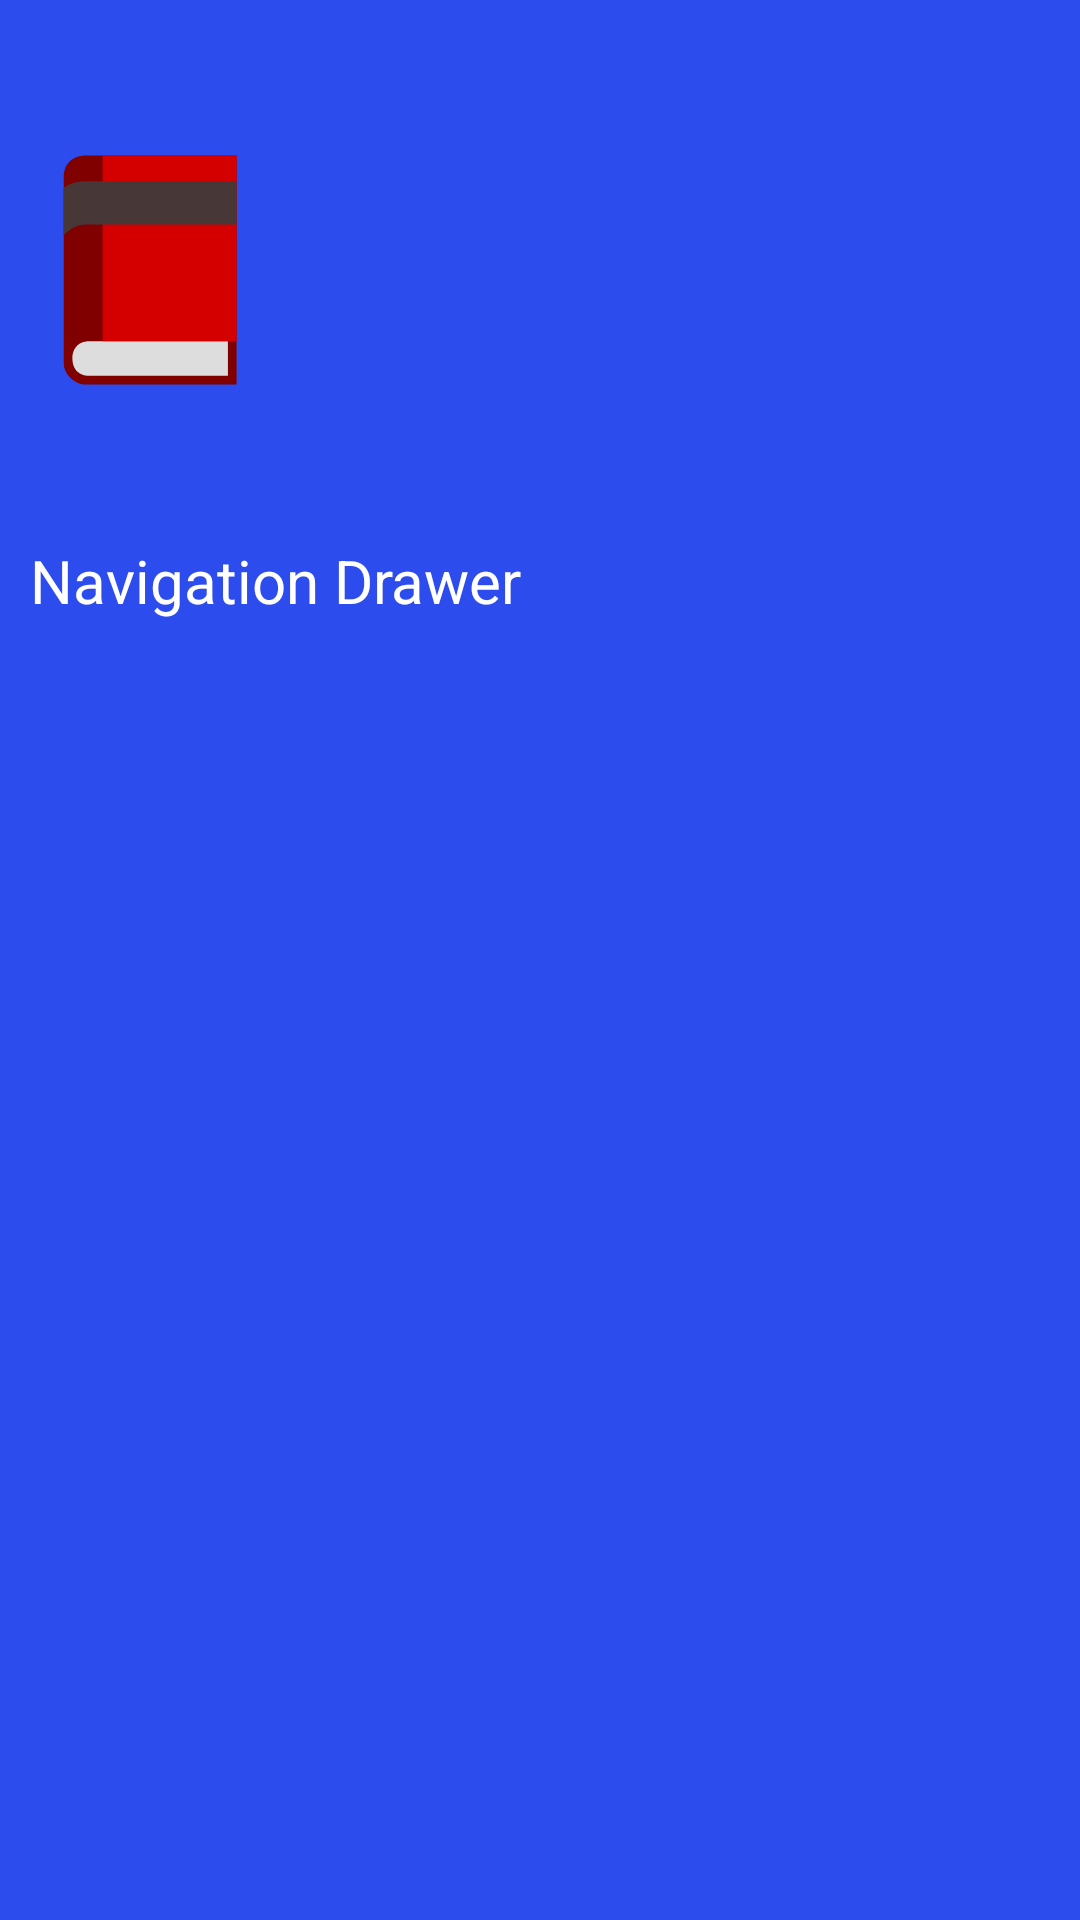

Locate icon controls on the screen. Image size 1080*1920, boxes as box=[x1, y1, x2, y2].
book: box=[63, 155, 237, 385]
